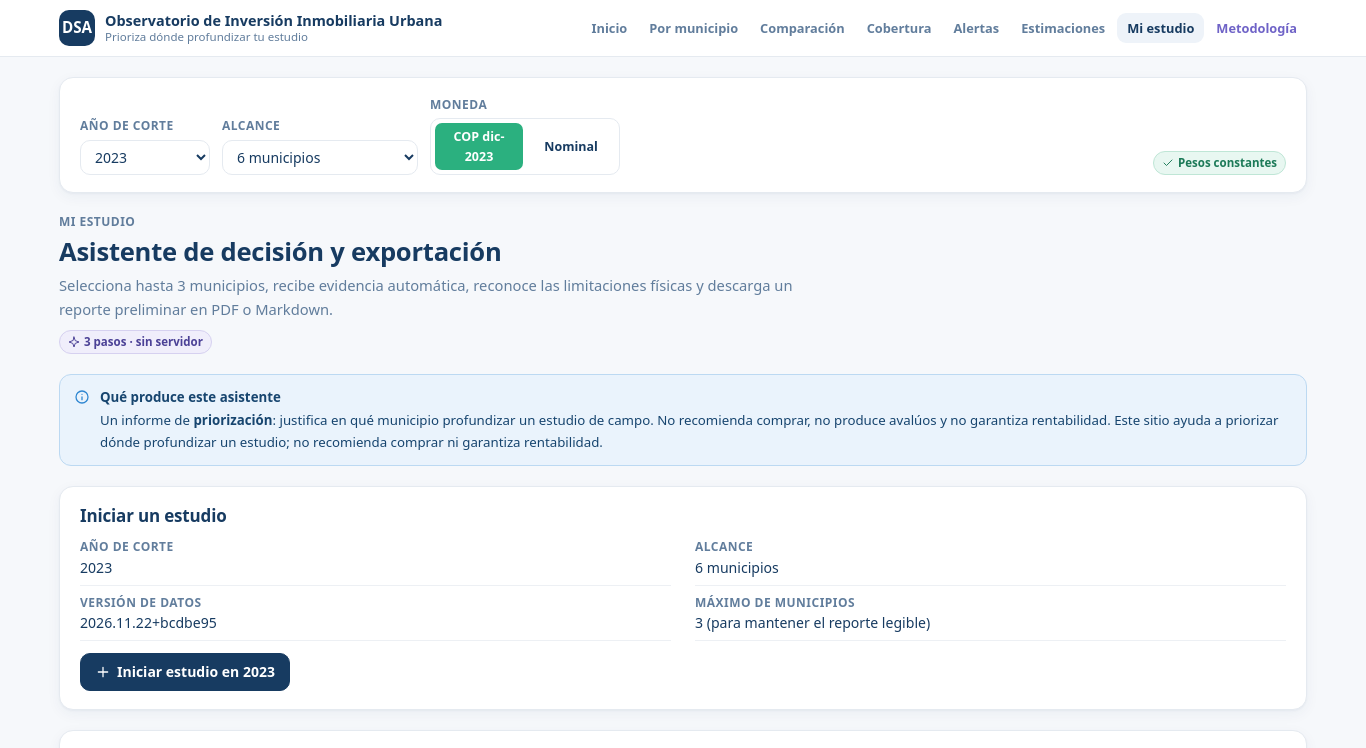
Test case: vista 7 · Mi Estudio › inicia el asistente y bloquea la exportación sin el paso 3
Expected: the heading "Asistente de decisión y exportación" is shown, x1=59 y1=234 x2=502 y2=269
Click the button "Iniciar estudio en 2023" at (185, 672), box x1=80 y1=653 x2=290 y2=691
(page scrolled)
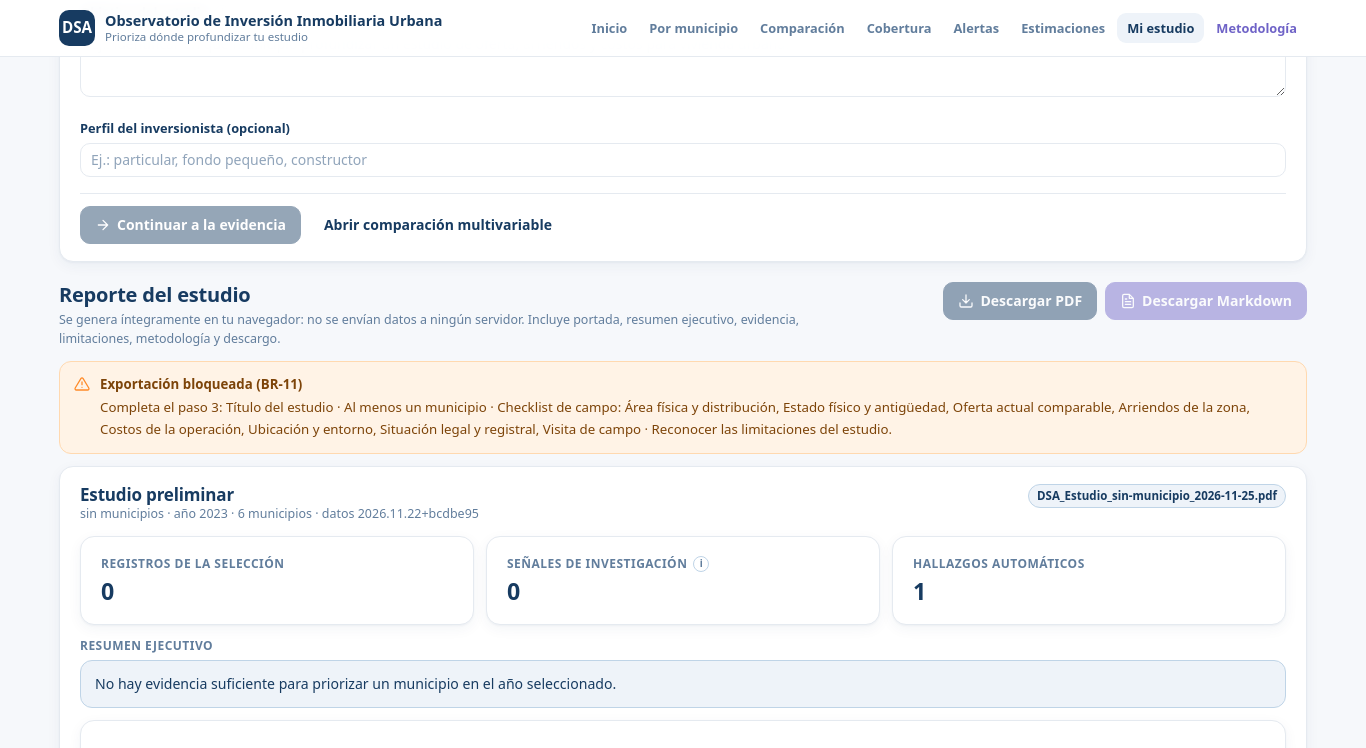
Expected: the text "Exportación bloqueada (BR-11)" is shown, x1=100 y1=375 x2=302 y2=393
